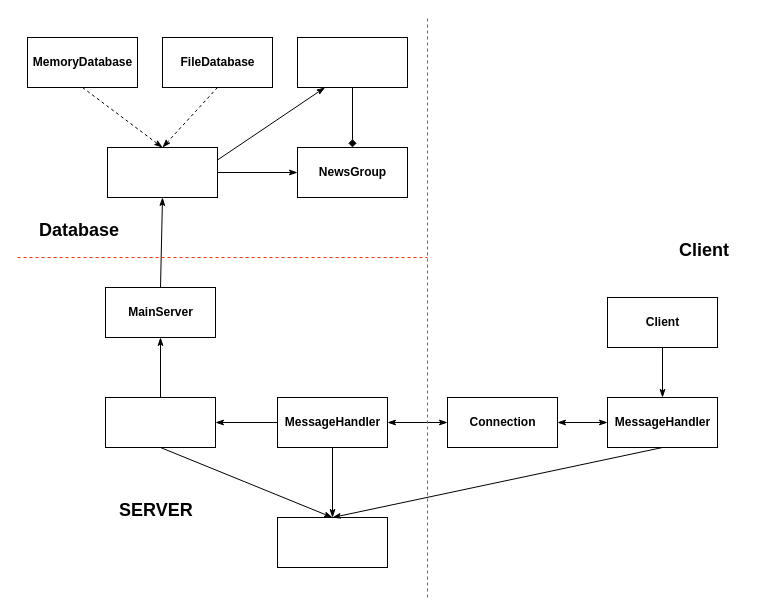
Image size: 765x616. Some labels were removed from this diagram. The centre of each missing label's shape, as x and y in pixels:
"Article" goes at [352,62].
"CommandParser" goes at [160,422].
"Protocol" goes at [332,542].
"«interface» Database" goes at [162,172].
